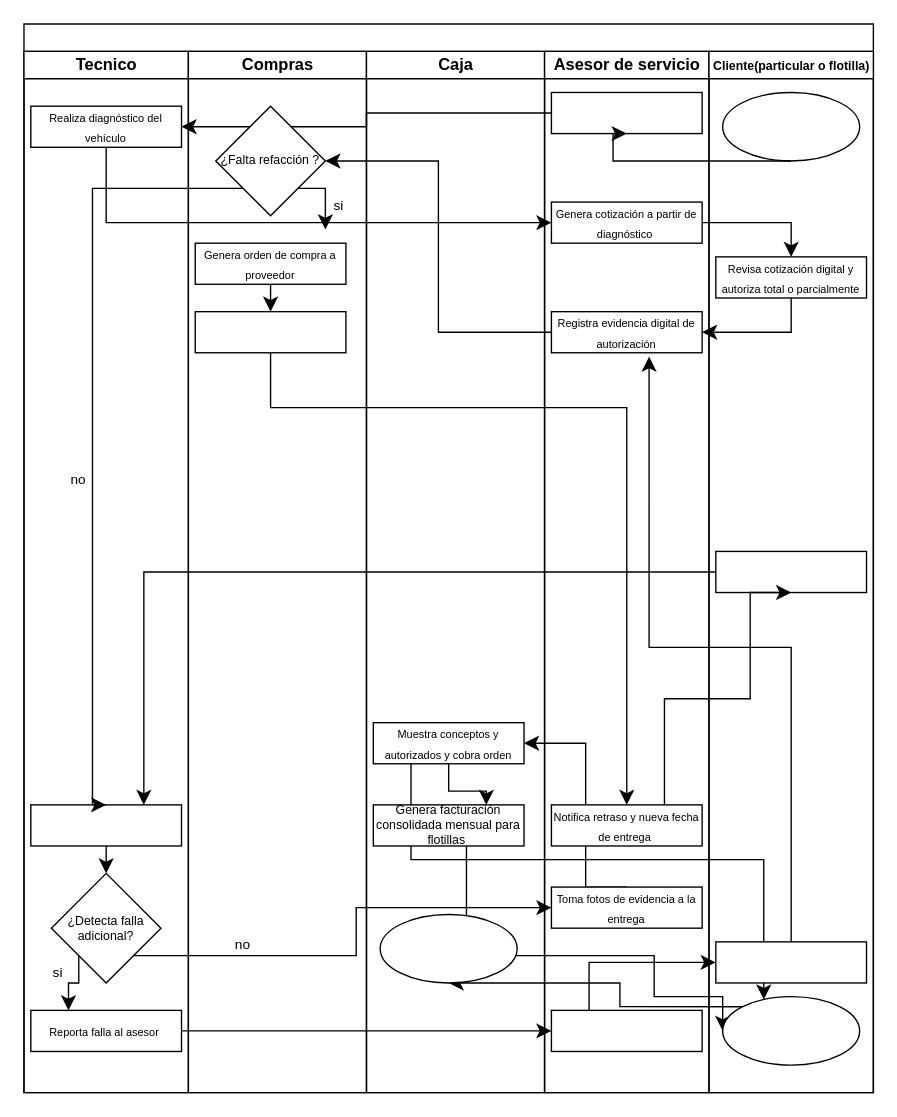
Some shapes in this 897 by 1117 pixel diagram are drawn without their labels. Each missing label, with the centre of its shape:
Autoriza cotización complementaria: pixel 790 962
Cierra orden de servicio: pixel 448 948
Ejecuta unicamente trabajos autorizados: pixel 105 825
Fin: Recibe vehículo y paga o se factura si es flotilla: pixel 790 1030
Genera cotización complementaria: pixel 626 1030
inicio: Llega vehiculo al taller: pixel 790 126
Marca vehículo "En espera de refacción": pixel 270 331
Recibe notificacion de nueva fecha: pixel 790 571
Registra ingreso, datos, y toma fotos iniciales: pixel 626 112
